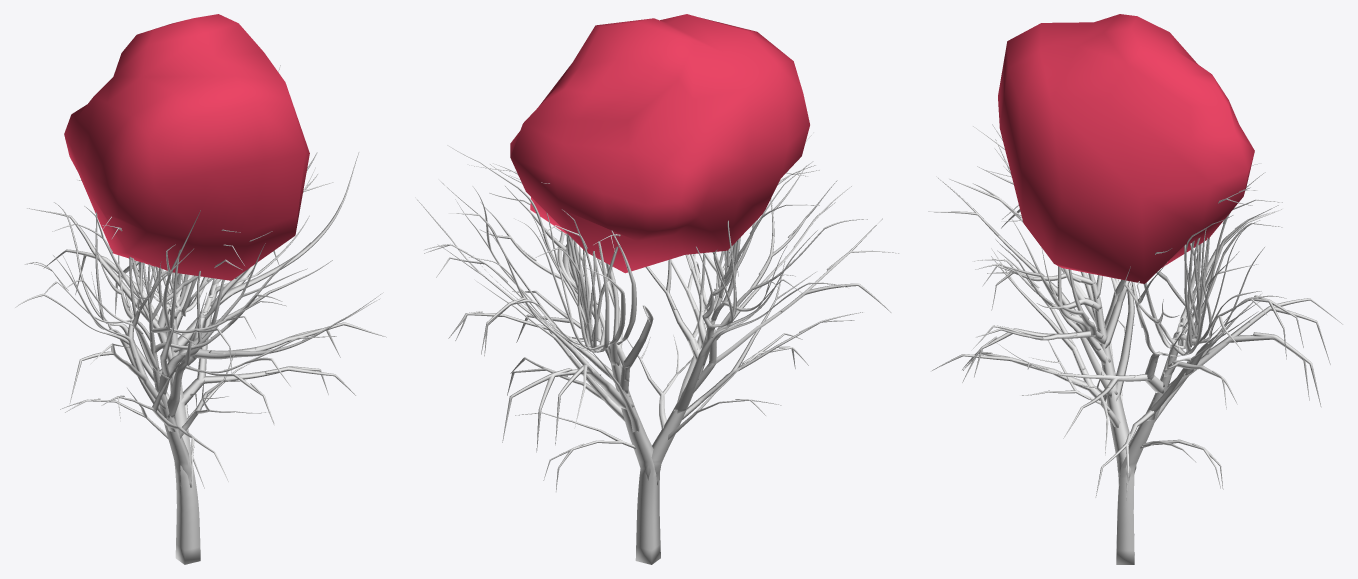
The model's file is AltTree.fbx.
3 views of the same model, side by side, from view 1: azimuth 30°, elevation 25°; view 2: azimuth 150°, elevation 25°; view 3: azimuth 270°, elevation 25° (orthographic).
Visible parts, largest first — view 1: Cube; view 2: Cube; view 3: Cube.
Boxes of the visible parts, <box> form: Cube: <box>15,14,386,564</box>; Cube: <box>415,14,899,564</box>; Cube: <box>928,14,1343,564</box>.
Size of the model in its own units: 489 by 644 by 452.
